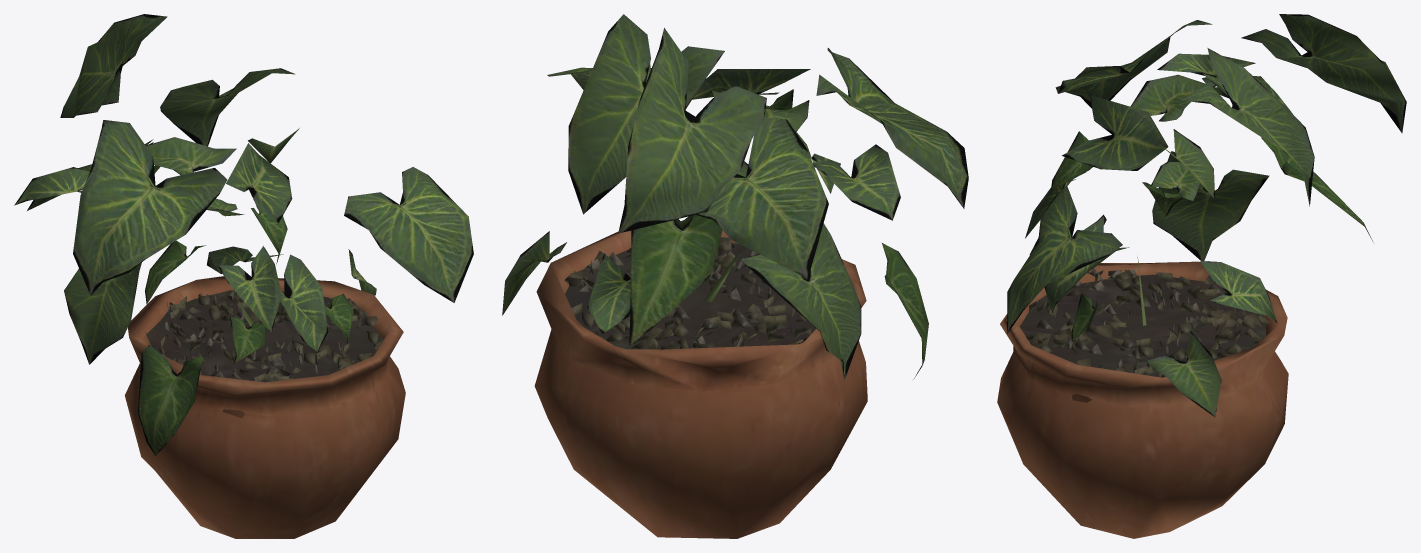
File: plant_bush.glb
3 renders of one model, left to right at view 1: azimuth 30°, elevation 25°; view 2: azimuth 150°, elevation 25°; view 3: azimuth 270°, elevation 25°, orthographic. The views are drawn at different scales.
Visible parts, largest first — view 1: plant_bush; view 2: plant_bush; view 3: plant_bush.
Part boxes in pixels (x1=…): plant_bush: x1=14, y1=14, x2=473, y2=538; plant_bush: x1=502, y1=14, x2=968, y2=538; plant_bush: x1=997, y1=14, x2=1406, y2=538.
Bounding box in the file's own units: 0.7012 × 0.8395 × 0.6554.
Materials: 1 (1 with a texture image).
